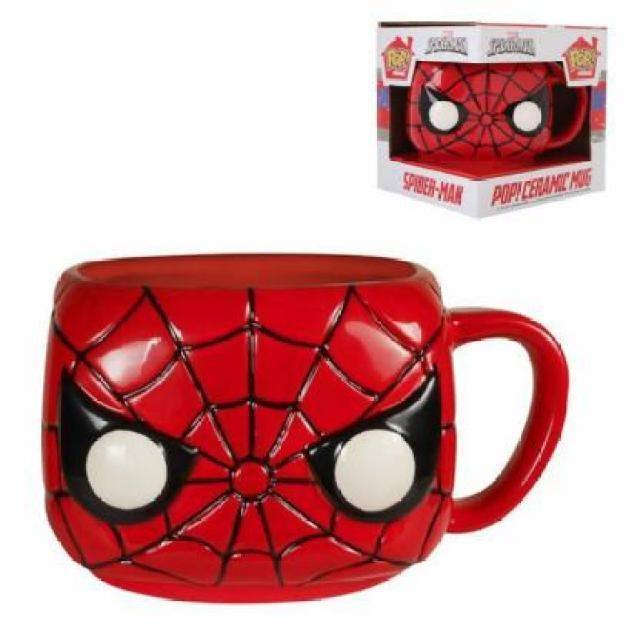taza: (39, 250, 572, 608)
